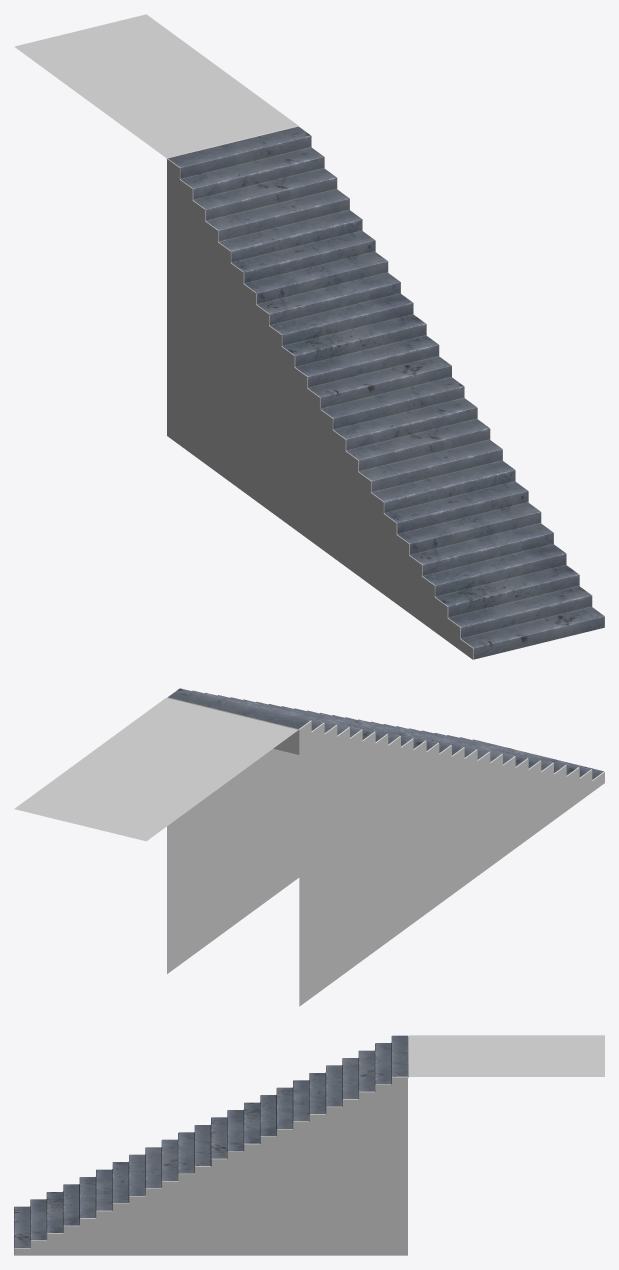
The model's file is SM_Bleacher_Floor_Stairs.fbx.
3 views of the same model, one above another, from view 1: azimuth 30°, elevation 25°; view 2: azimuth 150°, elevation 25°; view 3: azimuth 270°, elevation 25° (orthographic). The views are drawn at different scales.
Parts seen in each view (by area): view 1: stairs_low.001; view 2: stairs_low.001; view 3: stairs_low.001.
Part boxes in pixels (bbox=[...]): stairs_low.001: bbox=[14, 14, 604, 659]; stairs_low.001: bbox=[14, 688, 604, 1006]; stairs_low.001: bbox=[14, 1035, 604, 1255].
Size of the model in its own units: 300 by 600 by 1800.
